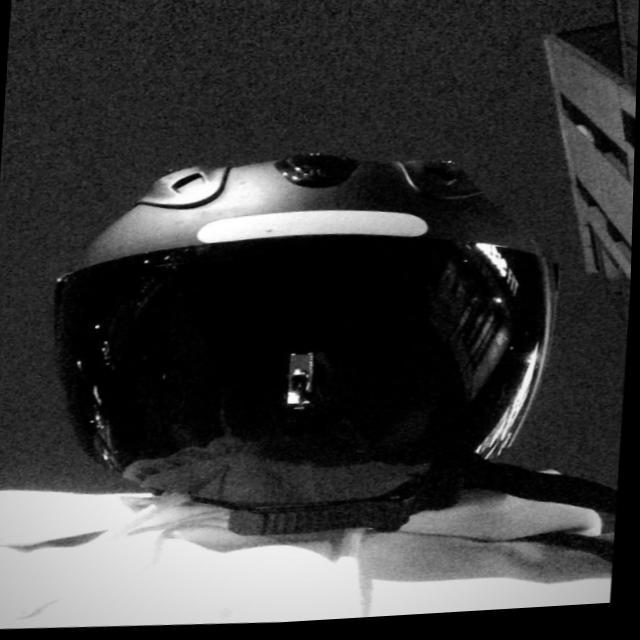Helmet: (37, 136, 571, 525)
